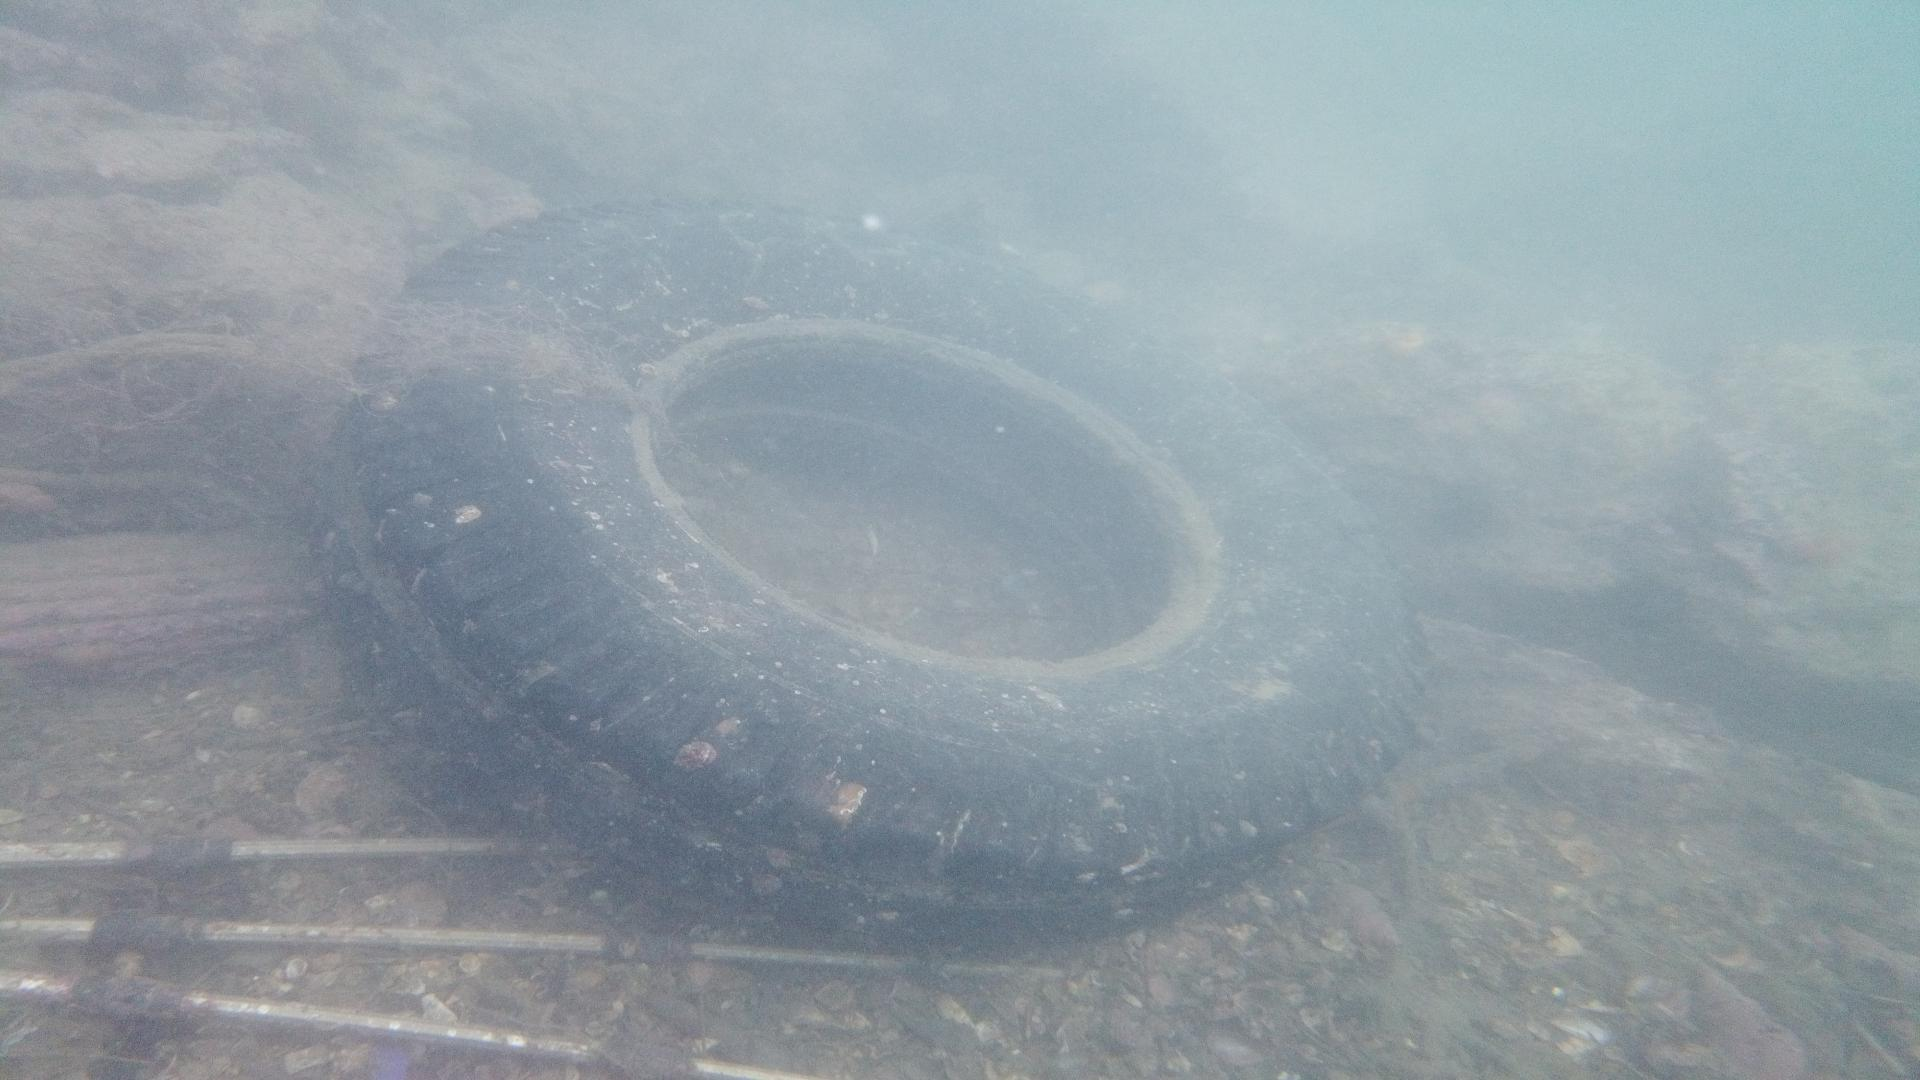tire: (344, 196, 1437, 960)
